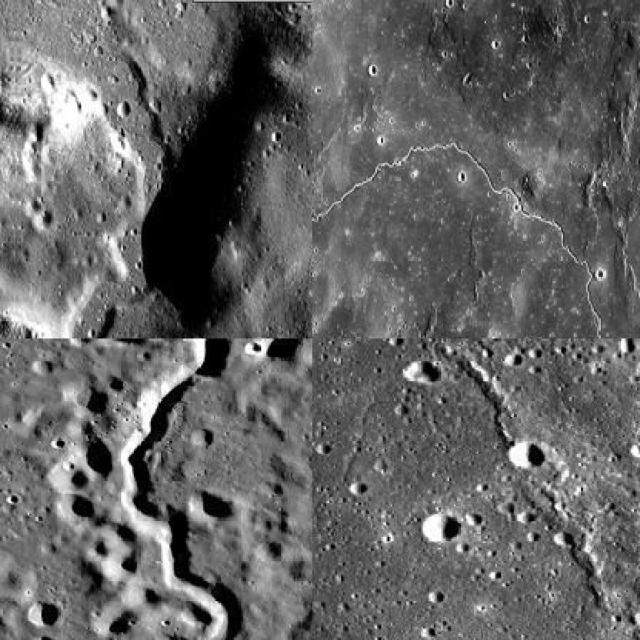rille: (312, 0, 638, 337), (120, 338, 311, 638), (0, 34, 189, 337), (463, 357, 612, 608), (312, 400, 378, 625)
